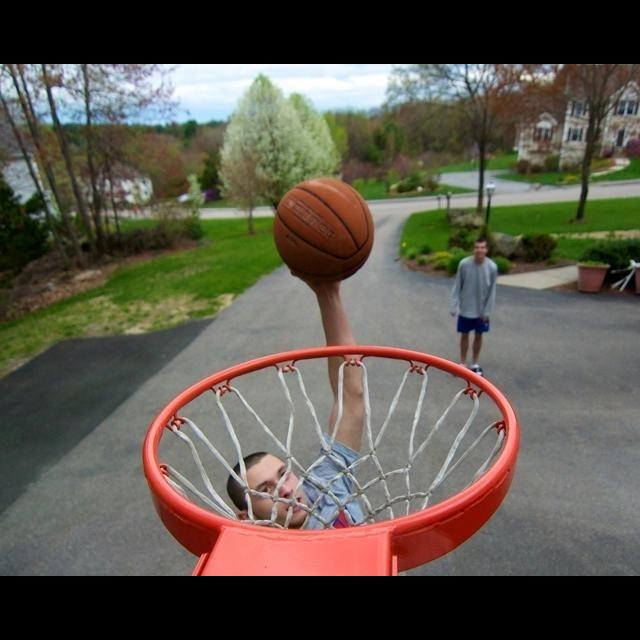basketball: (273, 175, 375, 281)
hoop: (121, 344, 535, 574)
